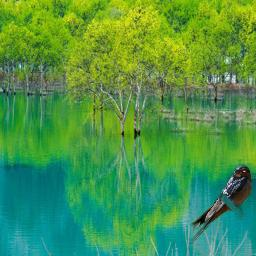Swallow: (190, 165, 252, 244)
